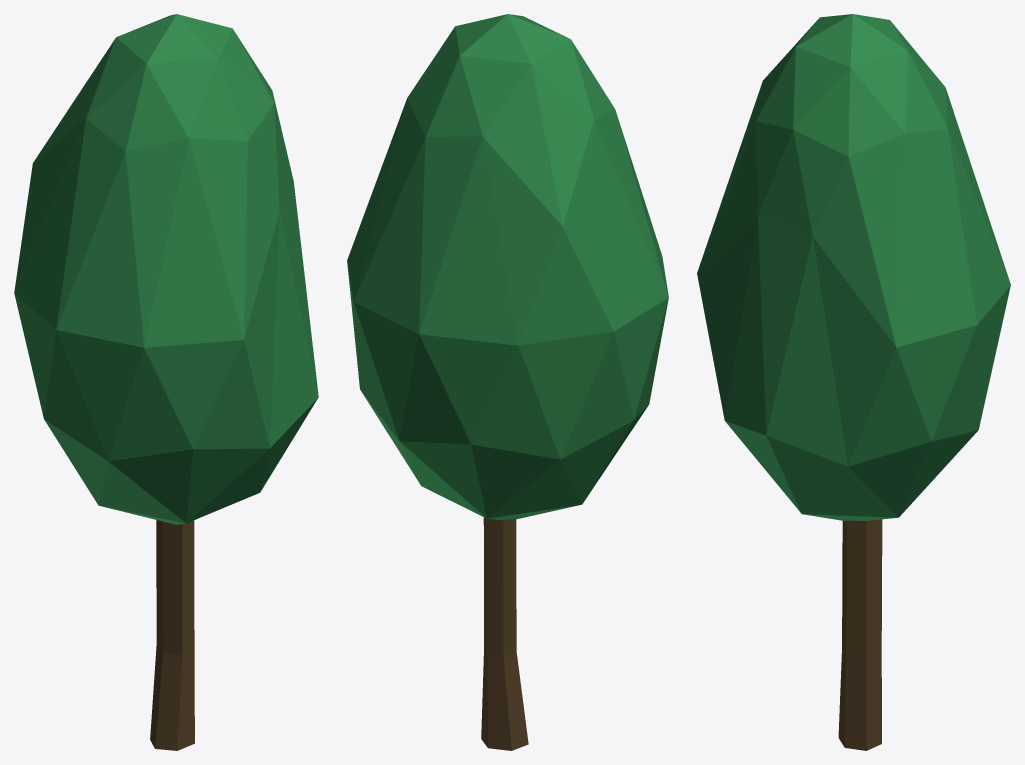
File: tree_1.glb
3 views of the same model, side by side, from view 1: azimuth 30°, elevation 25°; view 2: azimuth 150°, elevation 25°; view 3: azimuth 270°, elevation 25° (orthographic).
Parts seen in each view (by area): view 1: Cylinder.022_Material.002_0; view 2: Cylinder.022_Material.002_0; view 3: Cylinder.022_Material.002_0.
Boxes of the visible parts, <box> form: Cylinder.022_Material.002_0: <box>14,14,318,750</box>; Cylinder.022_Material.002_0: <box>347,14,668,750</box>; Cylinder.022_Material.002_0: <box>697,14,1010,750</box>.
Bounding box in the file's own units: 1.45 × 3.58 × 1.4.
